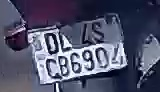0: (95, 48, 110, 69)
4: (108, 43, 124, 66), (78, 22, 92, 48)
6: (69, 53, 83, 75)
9: (82, 52, 94, 71)
B: (58, 57, 70, 77)
C: (44, 59, 61, 80)
D: (41, 32, 60, 55)
L: (58, 31, 71, 53)
S: (92, 21, 106, 47)
